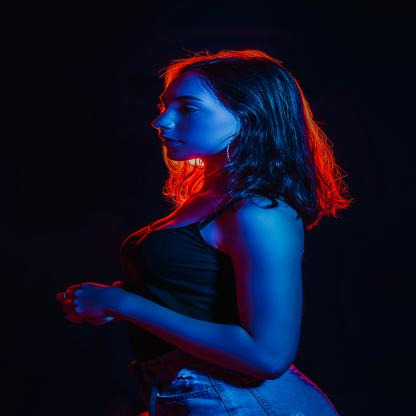Eye: (176, 101, 204, 115)
Mouth: (157, 134, 188, 148)
Nose: (142, 104, 178, 130)
